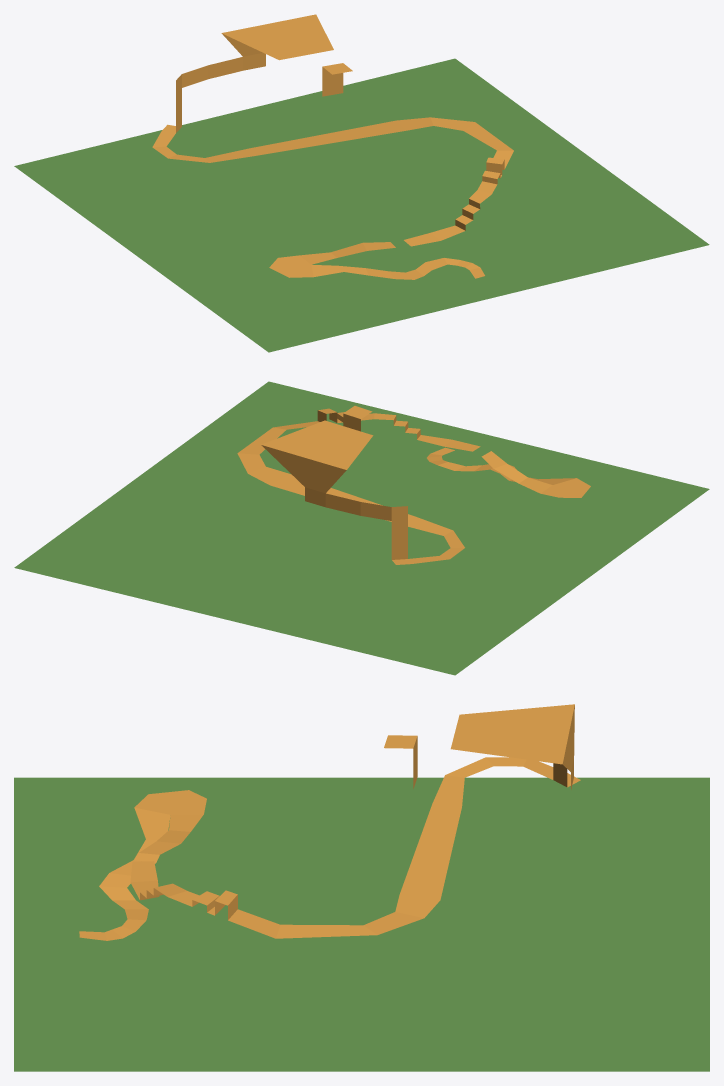
Rendered from mountain.fbx.
3 renders of one model, top to bottom at view 1: azimuth 30°, elevation 25°; view 2: azimuth 150°, elevation 25°; view 3: azimuth 270°, elevation 25°, orthographic. The views are drawn at different scales.
Visible parts, largest first — view 1: Ground, Path; view 2: Ground, Path; view 3: Ground, Path.
Boxes of the visible parts, box(x1,y1,x2,y2) form: Ground: box(14, 58, 709, 352); Path: box(152, 14, 513, 279); Ground: box(14, 381, 709, 675); Path: box(237, 406, 590, 564); Ground: box(14, 777, 709, 1071); Path: box(79, 704, 580, 940).
Bounding box in the file's own units: 20000 × 5661 × 20000.
